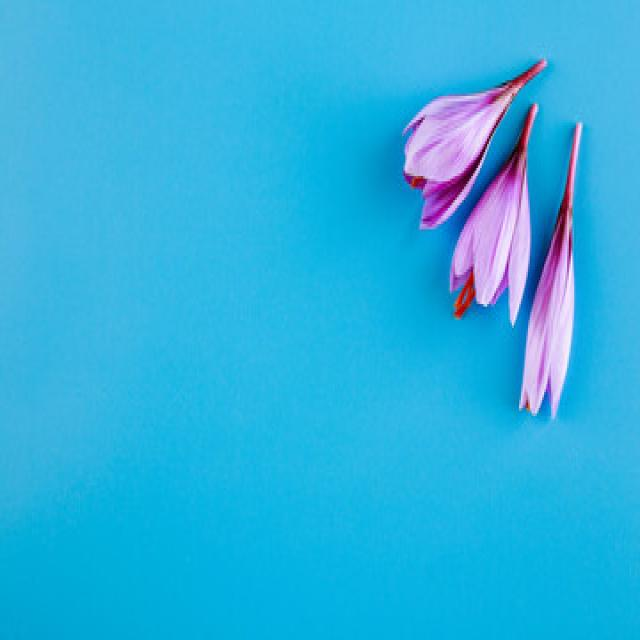saffron open: (404, 63, 546, 228), (450, 103, 534, 323), (520, 124, 581, 417)
